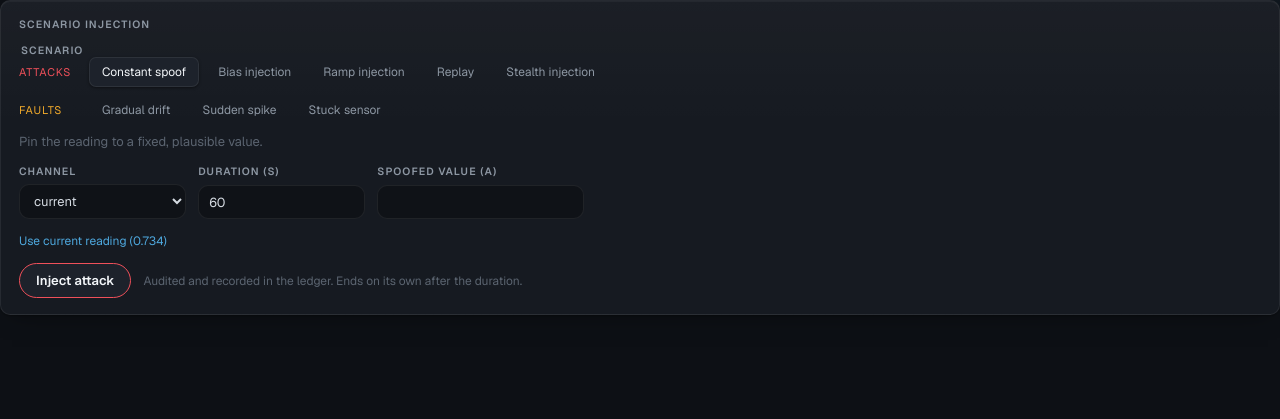
ScenarioInjectPanel › sends the typed scenario and shows it running
The image size is (1280, 419).
Click the button with test id "inject-use-current" at [76, 241], box left=19, top=233, right=1261, bottom=249
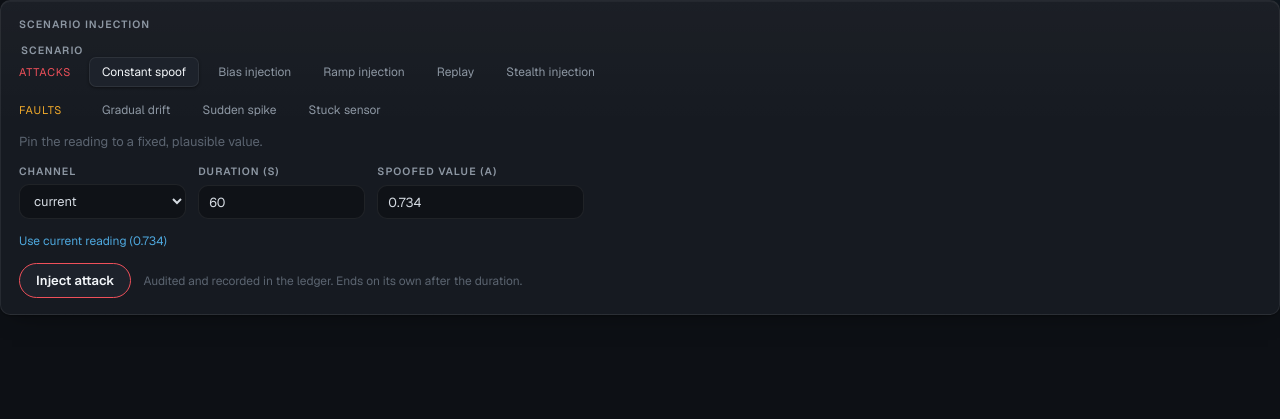
Result: the number field with test id "inject-param-value" holds "0.734" at left=377, top=185, right=584, bottom=219
Replace the text in the number field with test id "inject-duration" with "45" at [282, 202], box left=198, top=185, right=365, bottom=219
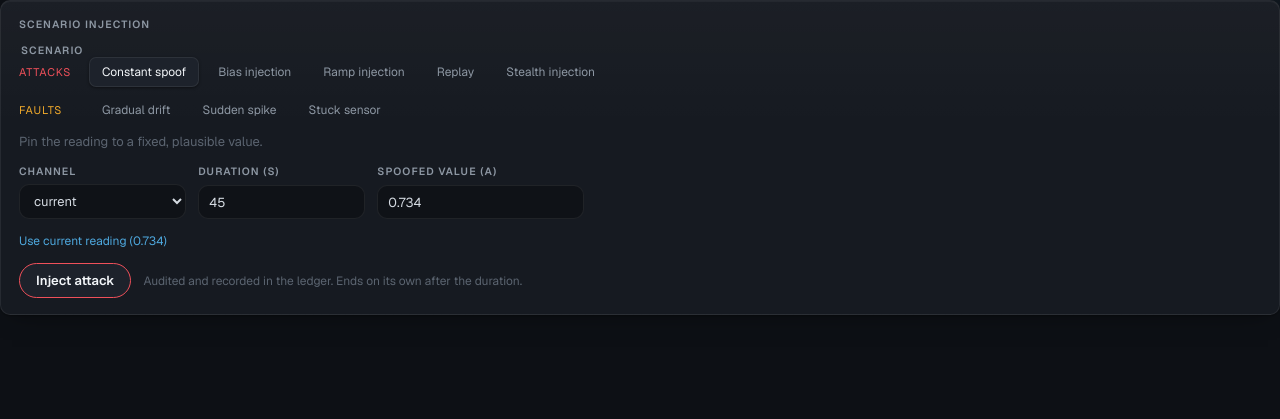
Click the button with test id "inject-submit" at [75, 280], box left=19, top=263, right=132, bottom=298
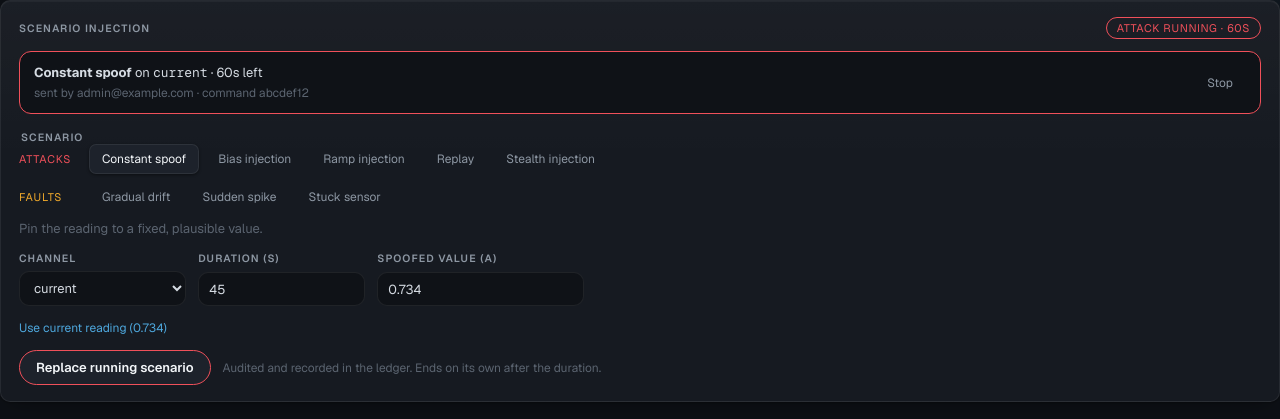
Result: the message with test id "inject-active" shows "Constant spoof" at left=34, top=64, right=132, bottom=81
Result: the text with test id "inject-badge" shows "Attack running" at left=1106, top=17, right=1261, bottom=39
